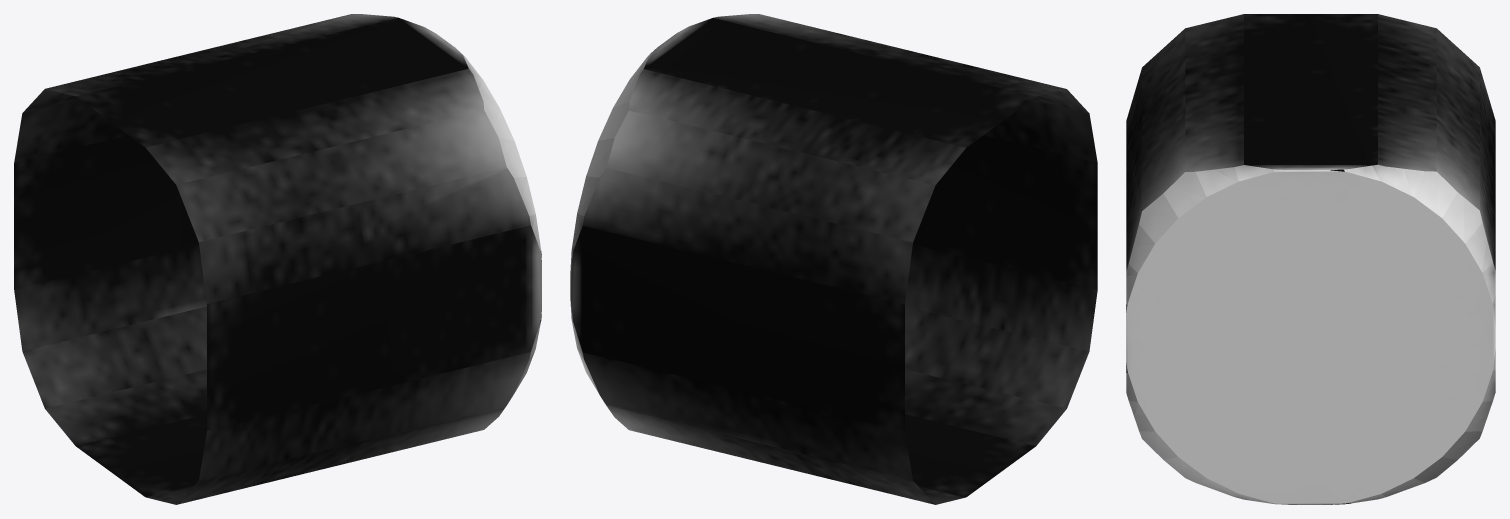
Rendered from center.glb.
3 views of the same model, side by side, from view 1: azimuth 30°, elevation 25°; view 2: azimuth 150°, elevation 25°; view 3: azimuth 270°, elevation 25° (orthographic). The views are drawn at different scales.
Visible parts, largest first — view 1: Cube.002; view 2: Cube.002; view 3: Cube.002.
Boxes of the visible parts, <box> form: Cube.002: <box>14,14,541,504</box>; Cube.002: <box>570,14,1097,504</box>; Cube.002: <box>1126,14,1495,504</box>.
Bounding box in the file's own units: 1 × 1 × 1.
1 material, 1 textured.
